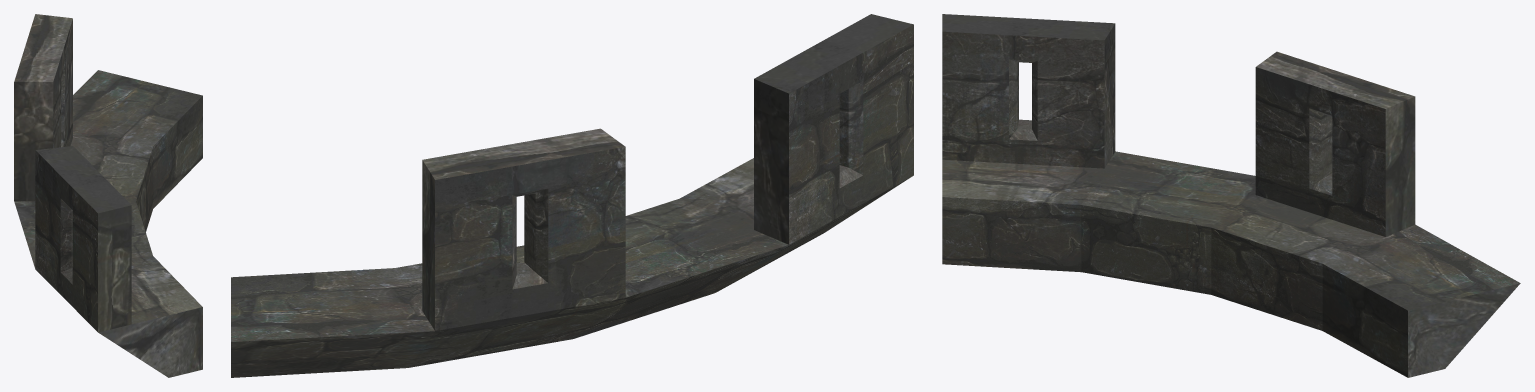
Rendered from Model_CASTLE_TOWER_BATTLEMENT.FBX.
3 renders of one model, left to right at view 1: azimuth 30°, elevation 25°; view 2: azimuth 150°, elevation 25°; view 3: azimuth 270°, elevation 25°, orthographic. The views are drawn at different scales.
Visible parts, largest first — view 1: Model_CASTLE_TOWER_BATTLEMENT; view 2: Model_CASTLE_TOWER_BATTLEMENT; view 3: Model_CASTLE_TOWER_BATTLEMENT.
Boxes of the visible parts, bbox=[...] form: Model_CASTLE_TOWER_BATTLEMENT: bbox=[14, 14, 202, 377]; Model_CASTLE_TOWER_BATTLEMENT: bbox=[231, 14, 913, 377]; Model_CASTLE_TOWER_BATTLEMENT: bbox=[942, 14, 1520, 377].
Bounding box in the file's own units: 140 × 75.62 × 203.
1 material, 1 textured.
